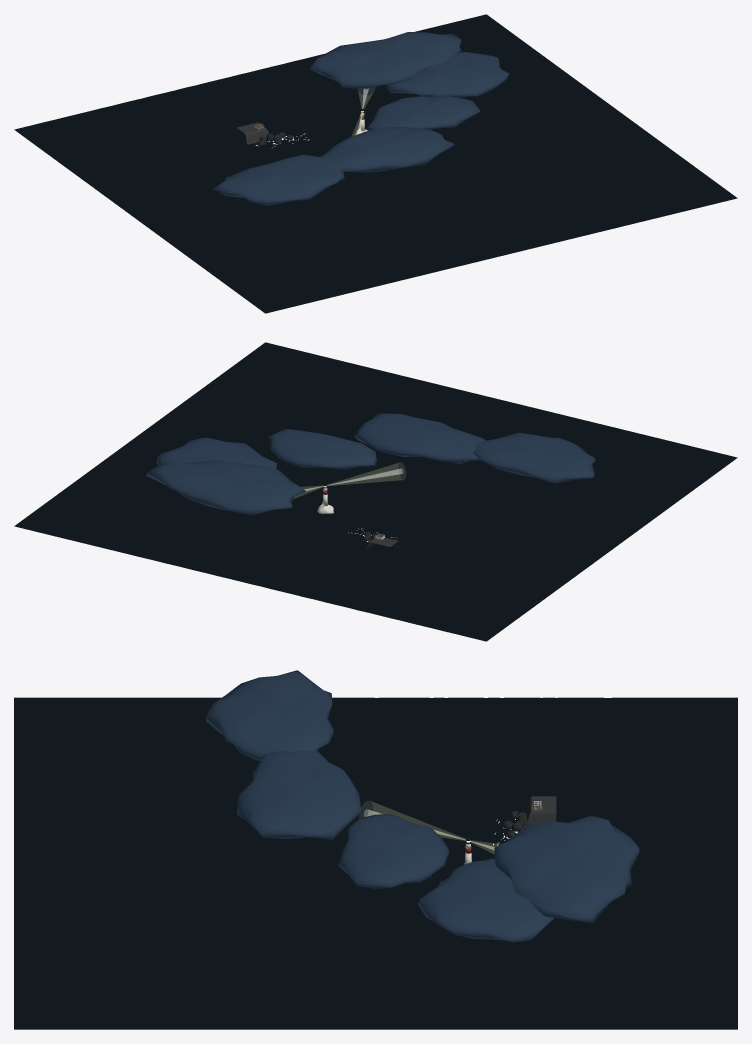
The model's file is cliff.glb.
The picture shows the model from 3 angles, top to bottom: view 1: azimuth 30°, elevation 25°; view 2: azimuth 150°, elevation 25°; view 3: azimuth 270°, elevation 25°; orthographic projection. The views are drawn at different scales.
Visible parts, largest first — view 1: GEO_Sea, GEO_Clouds; view 2: GEO_Sea, GEO_Clouds, GEO_LighthouseBeam; view 3: GEO_Sea, GEO_Clouds, GEO_Cliff, GEO_LighthouseBeam.
Part boxes in pixels (x1,y1,x2,y2): GEO_Sea: (14,14,737,313); GEO_Clouds: (213,32,509,205); GEO_Sea: (14,342,737,641); GEO_Clouds: (146,413,595,514); GEO_LighthouseBeam: (294,463,403,497); GEO_Sea: (14,697,737,1029); GEO_Clouds: (206,670,639,942); GEO_Cliff: (525,796,556,825); GEO_LighthouseBeam: (364,802,499,853).
Size of what is drawn, in the model's own units: 510 by 56.06 by 470.
